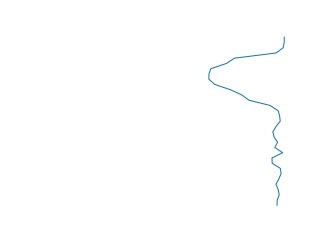distalBar: (203, 35, 294, 208)
